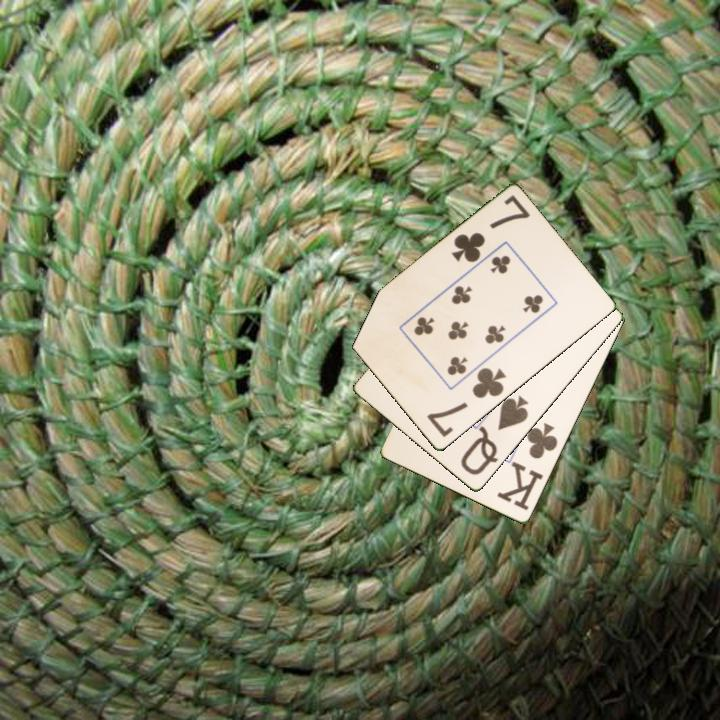7c: (423, 364, 509, 441), (448, 191, 533, 266)
Kc: (494, 419, 561, 514)
Qs: (457, 393, 532, 479)
